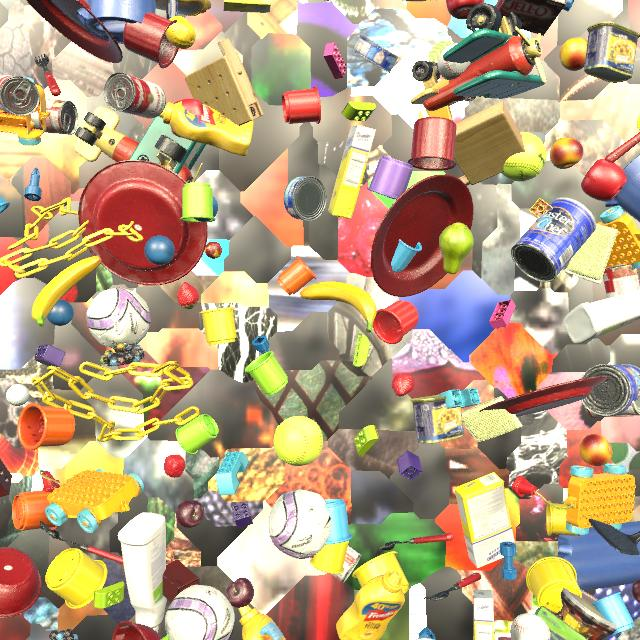ycb_002_master_chef_can: (511, 197, 596, 282), (581, 364, 640, 416), (415, 638, 434, 640)
ycb_004_sugar_box: (454, 472, 517, 568), (328, 125, 376, 219), (473, 590, 495, 640), (223, 0, 271, 13)
ycb_005_tomato_soup_can: (103, 72, 166, 118), (310, 546, 361, 583), (31, 99, 78, 135), (0, 75, 40, 116), (603, 264, 640, 298), (585, 398, 640, 418)
ycb_006_mustard_bottle: (159, 101, 254, 156), (336, 569, 405, 640), (238, 605, 286, 640), (155, 0, 211, 16)
ycb_007_tuna_fish_can: (284, 176, 327, 221), (352, 35, 398, 73)
ycb_008_pudding_box: (495, 0, 567, 36)
ycb_010_potted_meat_can: (584, 22, 640, 83), (410, 395, 464, 444)
ycb_011_banana: (31, 256, 102, 327), (300, 281, 377, 333)
ycb_012_strawberry: (177, 282, 199, 309), (392, 373, 415, 396), (164, 454, 185, 478)
ycb_013_apple: (581, 159, 627, 201), (171, 98, 203, 138), (446, 0, 485, 19), (325, 0, 330, 1)
ycb_014_lemon: (165, 16, 196, 49)
ycb_015_peach: (579, 434, 612, 466), (550, 137, 583, 169), (559, 37, 588, 71)
ycb_016_pear: (439, 223, 474, 275)
ycb_018_plum: (226, 578, 254, 608), (176, 500, 205, 528), (632, 580, 640, 603)
